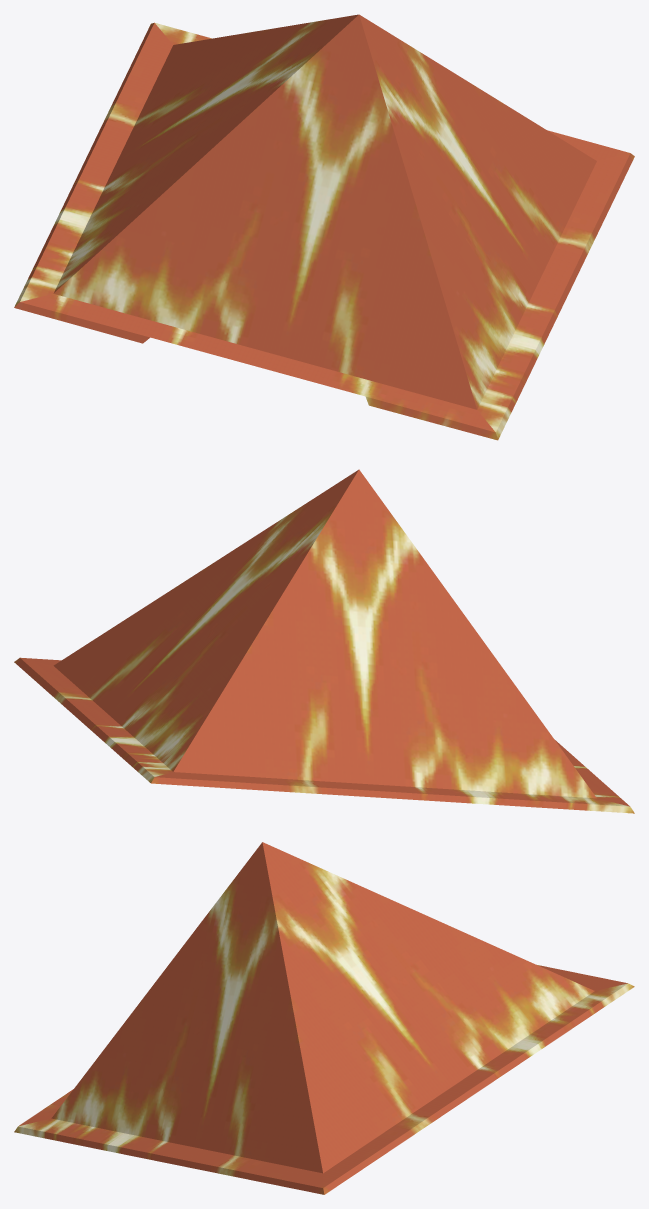
3 views of the same model, one above another, from view 1: azimuth 30°, elevation 25°; view 2: azimuth 150°, elevation 25°; view 3: azimuth 270°, elevation 25° (orthographic). The views are drawn at different scales.
Visible parts, largest first — view 1: Object01; view 2: Object01; view 3: Object01.
Boxes of the visible parts, box(x1,y1,x2,y2) form: Object01: box(14, 14, 634, 440); Object01: box(14, 469, 634, 813); Object01: box(14, 842, 634, 1194).
Bounding box in the file's own units: 38.74 × 37.5 × 19.34.
